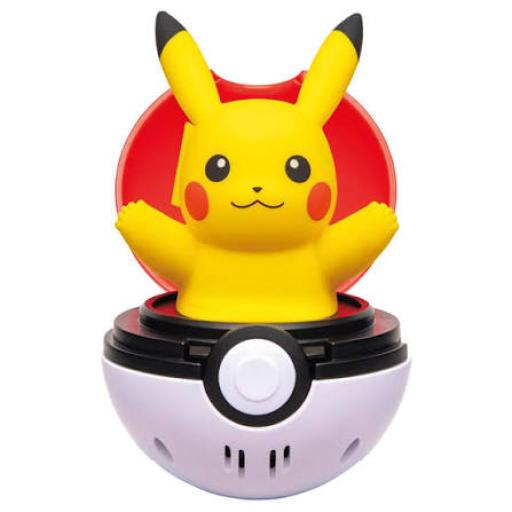Pikachu: (115, 10, 400, 323)
